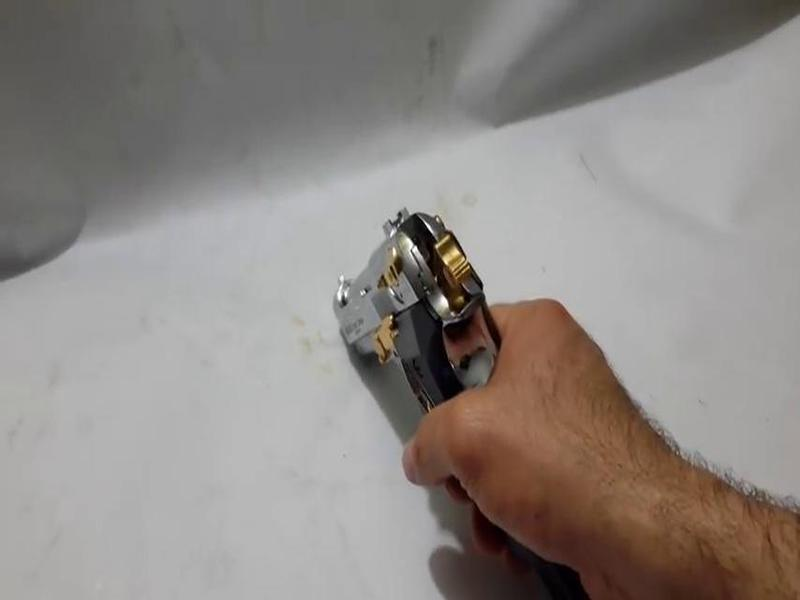Pistola: (305, 202, 546, 555)
